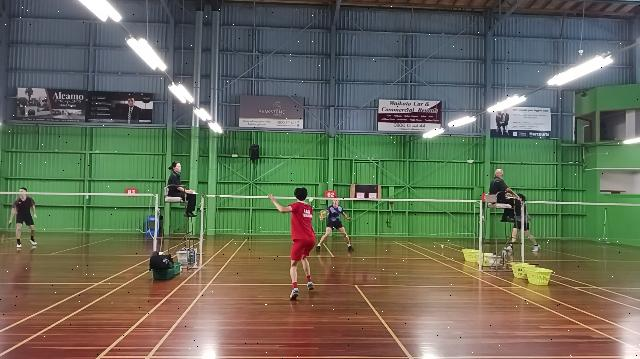Shuttlecock: (306, 198, 318, 204)
